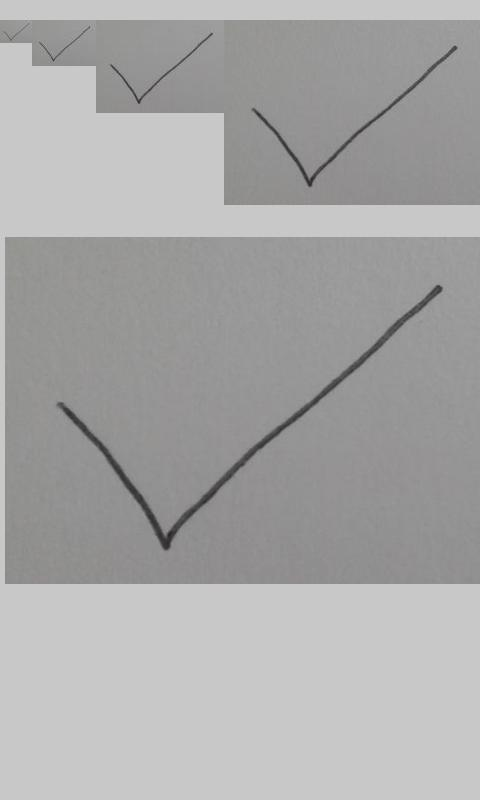check_box: (57, 284, 440, 553), (251, 46, 456, 187), (109, 33, 213, 104), (39, 26, 89, 62), (4, 23, 28, 41)
